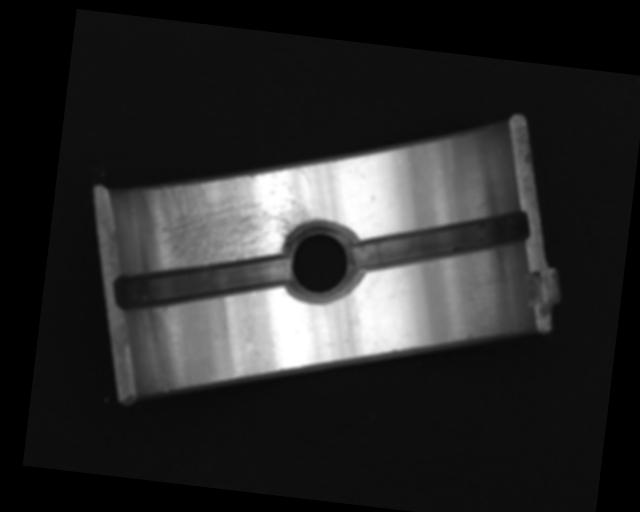gap: (350, 193, 532, 291), (110, 234, 296, 329)
hole: (276, 216, 367, 310)
scratch: (133, 144, 315, 293)
